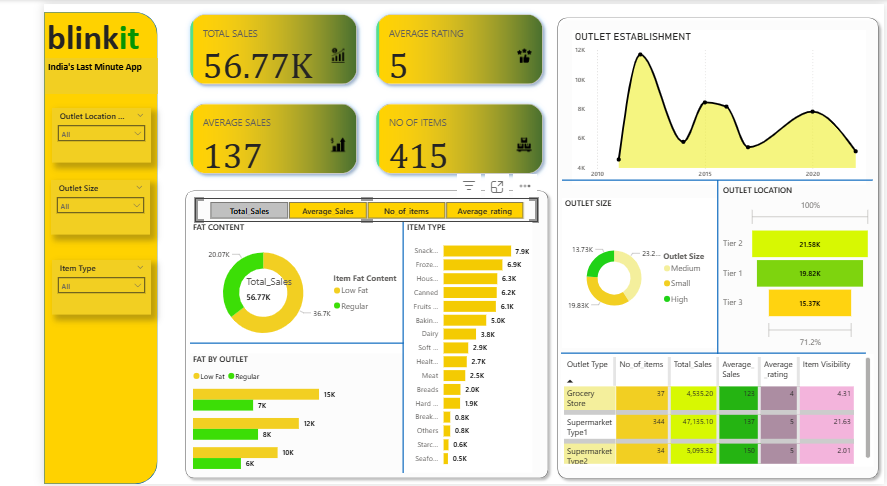

The page's visual inventory and layout, read from the dashboard file:
{"tool":"powerbi","page":{"name":"Page 1","canvas":[1400,800],"ordinal":0},"visuals":[{"type":"shape","box":[0,13.1,189.4,786.9],"z":0},{"type":"cardVisual","fields":{"Data":["BlinkIT Grocery Data.Total_Sales","BlinkIT Grocery Data.Average_rating","BlinkIT Grocery Data.Average_Sales","BlinkIT Grocery Data.No_of_items"]},"box":[226,0,622.8,301.3],"z":1000},{"type":"textbox","box":[0,12.9,226,88.2],"z":2000},{"type":"shape","box":[226,301.3,622.8,497.9],"z":3000},{"type":"donutChart","title":"FAT CONTENT","fields":{"Y":["BlinkIT Grocery Data.No_of_items"],"Category":["BlinkIT Grocery Data.Item Fat Content"]},"box":[243.3,364.1,355.9,218.8],"z":4000},{"type":"slicer","fields":{"Values":["Metrics.Metrics"]},"box":[251.4,323.3,571.4,40.8],"z":5000},{"type":"cardVisual","fields":{"Data":["BlinkIT Grocery Data.No_of_items"]},"box":[320,426.1,142,94.7],"z":6000},{"type":"clusteredBarChart","title":"FAT BY OUTLET","fields":{"Y":["BlinkIT Grocery Data.No_of_items"],"Category":["BlinkIT Grocery Data.Outlet Location Type"],"Series":["BlinkIT Grocery Data.Item Fat Content"]},"box":[243.3,582.9,256.3,199.2],"z":7000},{"type":"shape","box":[243.3,537.1,355.9,57.1],"z":8000},{"type":"shape","box":[409.8,364.1,377.1,418],"z":9000},{"type":"barChart","title":"ITEM TYPE","fields":{"Y":["BlinkIT Grocery Data.No_of_items"],"Category":["BlinkIT Grocery Data.Item Type"]},"box":[600.8,364.1,213.9,418],"z":10000},{"type":"shape","box":[847.3,13.1,553.5,786.9],"z":11000},{"type":"lineChart","title":"OUTLET ESTABLISHMENT","fields":{"Y":["BlinkIT Grocery Data.Total_Sales"],"Category":["BlinkIT Grocery Data.Outlet Establishment Year"]},"box":[880,44.1,489.8,258],"z":12000},{"type":"shape","box":[863.7,264.5,517.6,57.1],"z":13000},{"type":"donutChart","title":"OUTLET SIZE","fields":{"Y":["BlinkIT Grocery Data.Total_Sales"],"Category":["BlinkIT Grocery Data.Outlet Size"]},"box":[863.7,323.3,259.6,249.8],"z":14000},{"type":"shape","box":[943.7,293.9,359.2,300.4],"z":15000},{"type":"funnel","title":"OUTLET LOCATION","fields":{"Y":["Sum(BlinkIT Grocery Data.Sales)"],"Category":["BlinkIT Grocery Data.Outlet Location Type"]},"box":[1126.5,302,256.3,277.6],"z":16000},{"type":"pivotTable","fields":{"Values":["BlinkIT Grocery Data.No_of_items","BlinkIT Grocery Data.Total_Sales","BlinkIT Grocery Data.Average_Sales","BlinkIT Grocery Data.Average_rating","Sum(BlinkIT Grocery Data.Item Visibility)"],"Rows":["BlinkIT Grocery Data.Outlet Type"]},"box":[862,582.9,520.8,187.8],"z":17000},{"type":"shape","box":[862,553.5,507.8,57.1],"z":18000},{"type":"slicer","fields":{"Values":["BlinkIT Grocery Data.Outlet Location Type"]},"box":[13.1,173.1,164.9,91.4],"z":19000},{"type":"slicer","fields":{"Values":["BlinkIT Grocery Data.Outlet Size"]},"box":[11.4,293.9,164.9,91.4],"z":20000},{"type":"slicer","fields":{"Values":["BlinkIT Grocery Data.Item Type"]},"box":[13.1,426.1,164.9,91.4],"z":21000},{"type":"textbox","box":[1.6,89.8,187.8,60.4],"z":21001}]}

Visuals, with their boxes in screenshot pixels (x1, y1, x2, y2):
shape: box=[42, 8, 155, 478]
cardVisual - BlinkIT Grocery Data.Total_Sales x BlinkIT Grocery Data.Average_rating: box=[177, 0, 549, 180]
textbox: box=[42, 8, 177, 60]
shape: box=[177, 180, 549, 478]
"FAT CONTENT" donutChart: box=[187, 218, 400, 349]
slicer - Metrics.Metrics: box=[192, 193, 534, 218]
cardVisual - BlinkIT Grocery Data.No_of_items: box=[233, 255, 318, 311]
"FAT BY OUTLET" clusteredBarChart: box=[187, 349, 340, 468]
shape: box=[187, 321, 400, 355]
shape: box=[287, 218, 512, 468]
"ITEM TYPE" barChart: box=[401, 218, 529, 468]
shape: box=[548, 8, 879, 478]
"OUTLET ESTABLISHMENT" lineChart: box=[568, 26, 861, 181]
shape: box=[558, 158, 868, 192]
"OUTLET SIZE" donutChart: box=[558, 193, 713, 343]
shape: box=[606, 176, 821, 355]
"OUTLET LOCATION" funnel: box=[715, 181, 868, 347]
pivotTable - BlinkIT Grocery Data.No_of_items x BlinkIT Grocery Data.Total_Sales: box=[557, 349, 868, 461]
shape: box=[557, 331, 861, 365]
slicer - BlinkIT Grocery Data.Outlet Location Type: box=[49, 104, 148, 158]
slicer - BlinkIT Grocery Data.Outlet Size: box=[48, 176, 147, 230]
slicer - BlinkIT Grocery Data.Item Type: box=[49, 255, 148, 309]
textbox: box=[43, 54, 155, 90]
